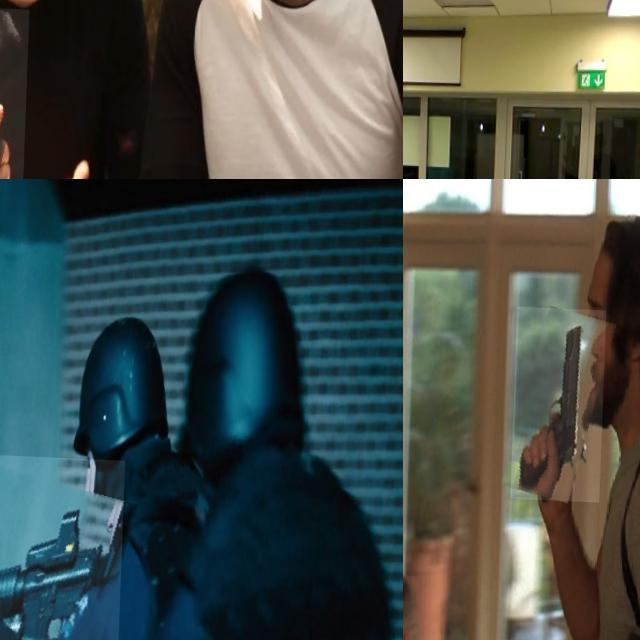-: (0, 5, 40, 179)
gun-knife-thesis - v11 Yolov5 augmented: (0, 447, 143, 640), (513, 304, 608, 499)
